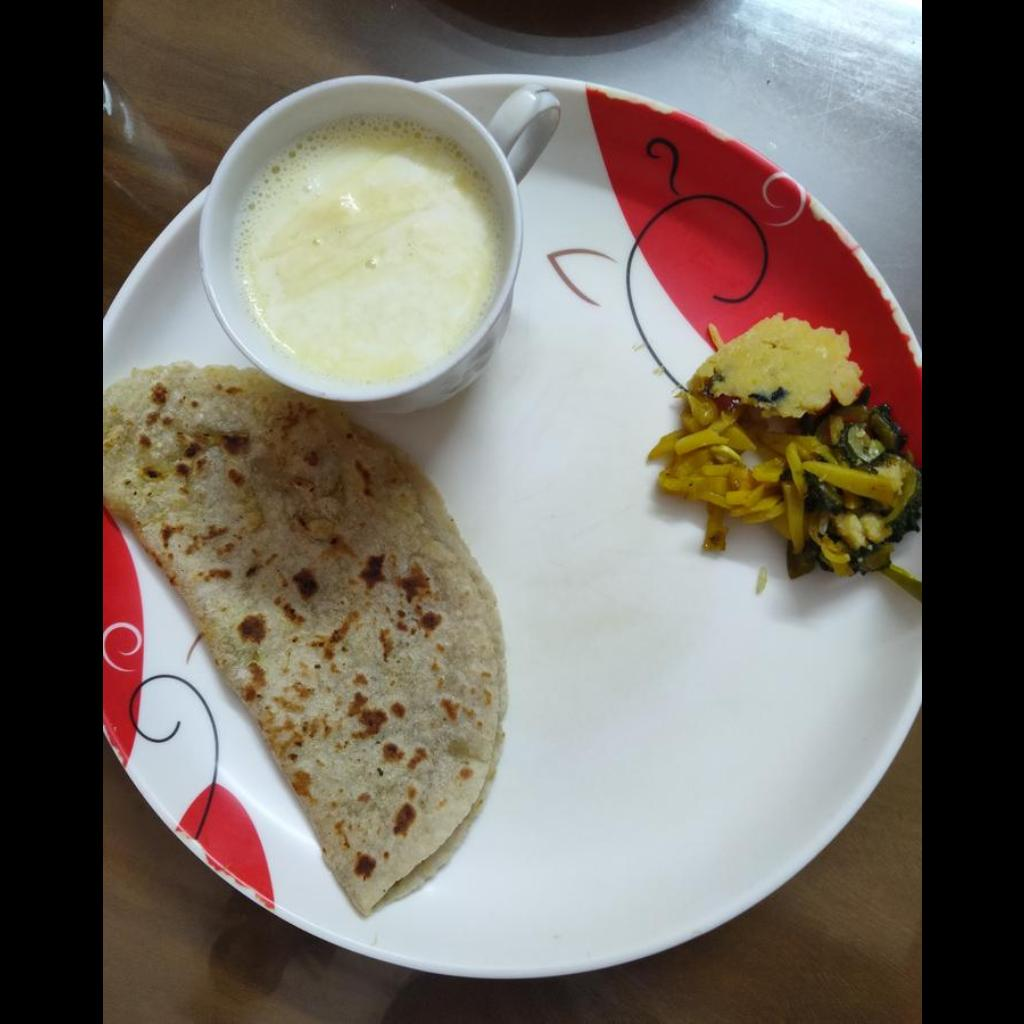milk: (238, 117, 499, 383)
ruti: (102, 367, 500, 911)
vaji: (659, 397, 920, 562)
vorta: (695, 311, 861, 420)
